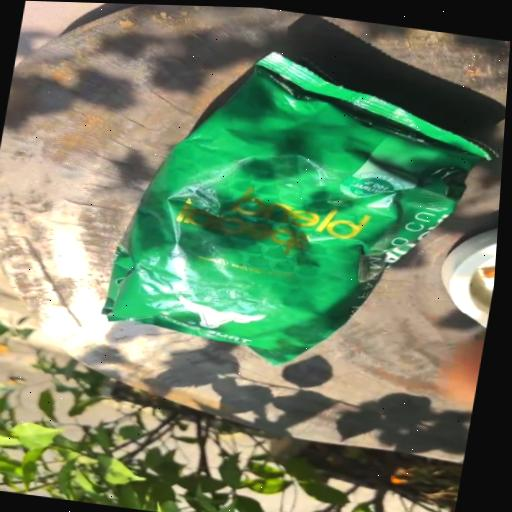cafe_xay: (102, 52, 489, 363)
